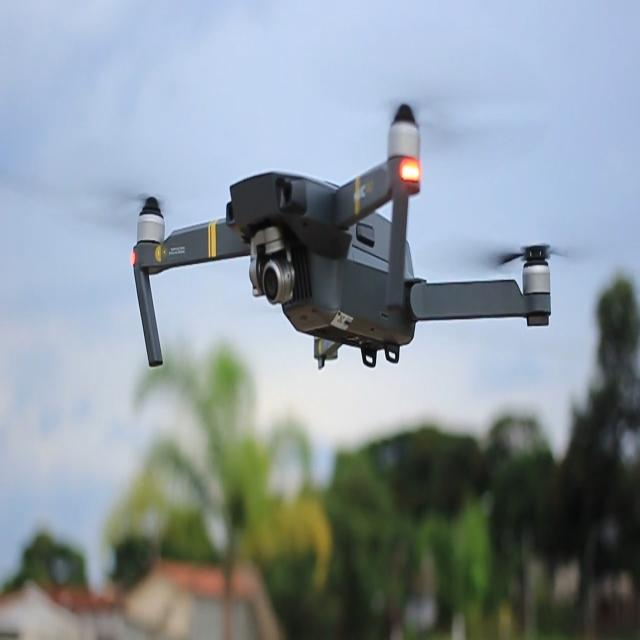Drone: (131, 103, 551, 371)
